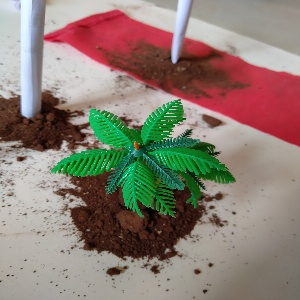plant: (59, 101, 212, 207)
weed: (10, 1, 50, 111), (170, 5, 204, 64)
